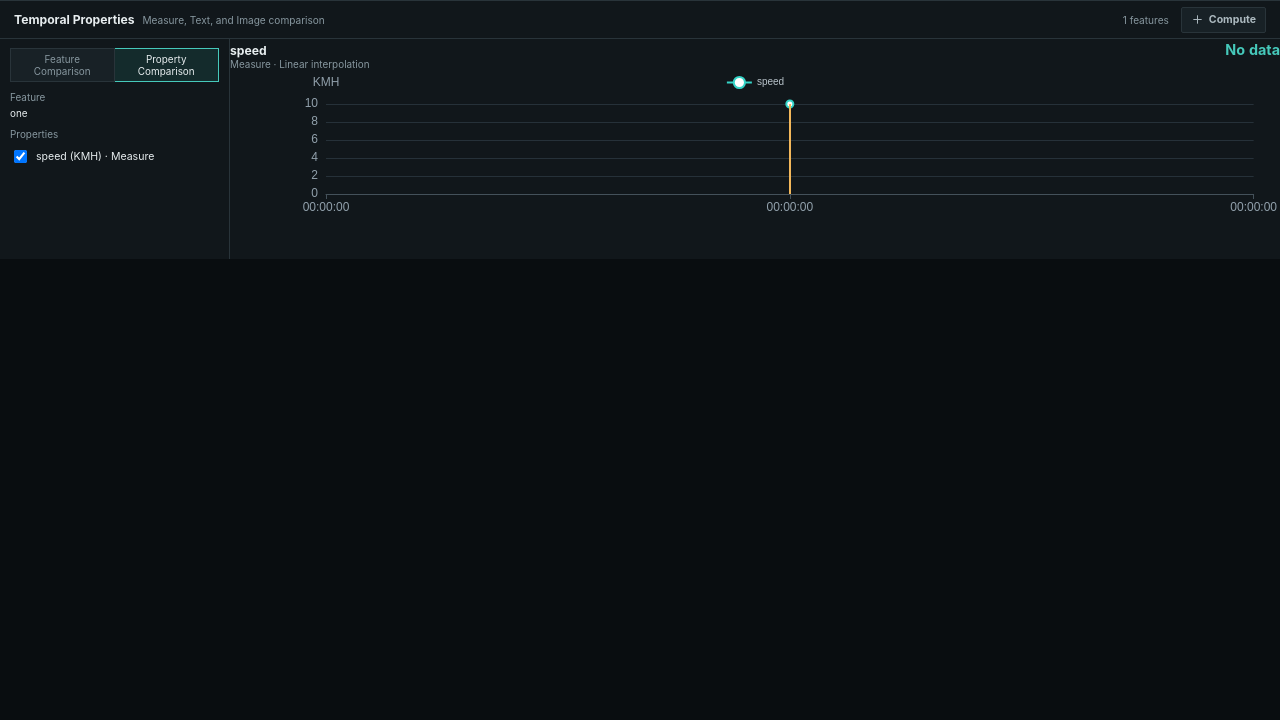
Test case: TemporalPropertiesPanel › opens the Compute dialog from the header action
Expected: the dialog "compute temporal property" is not shown
Click the button "Compute": (1223,20) [1181,6,1266,32]
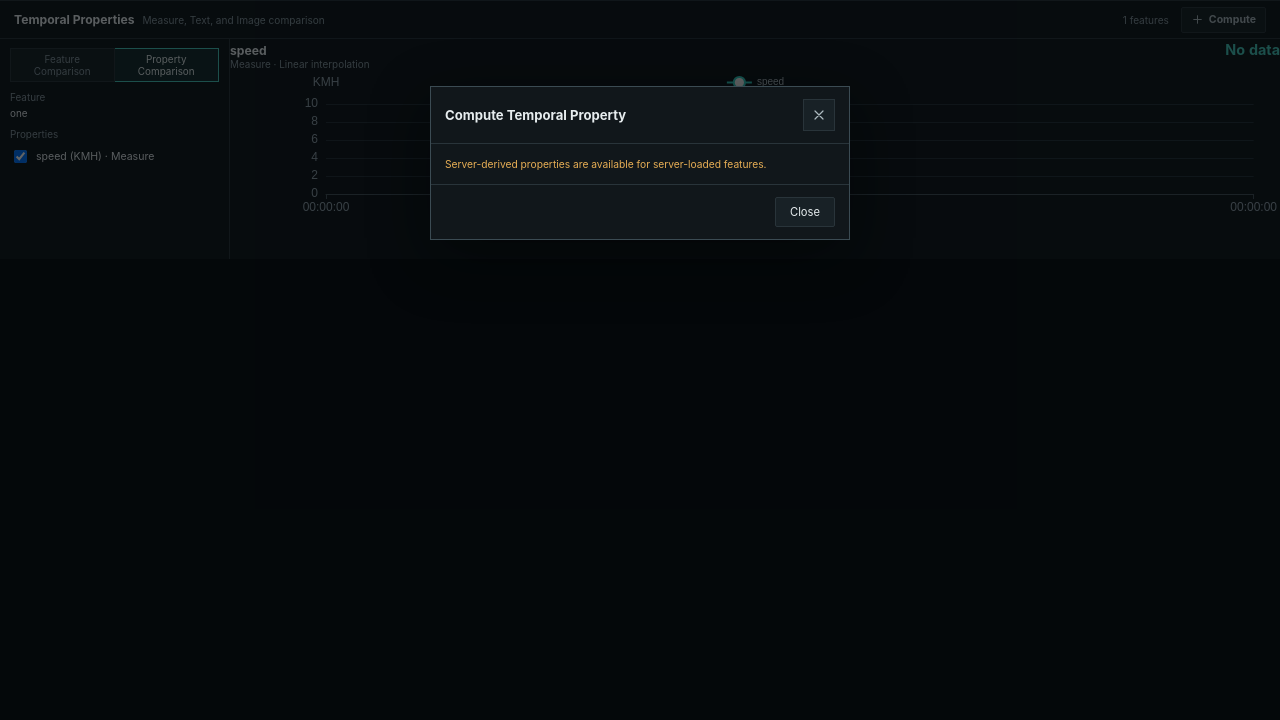
Now the dialog "Compute Temporal Property" is shown, box [430,86,850,240]
